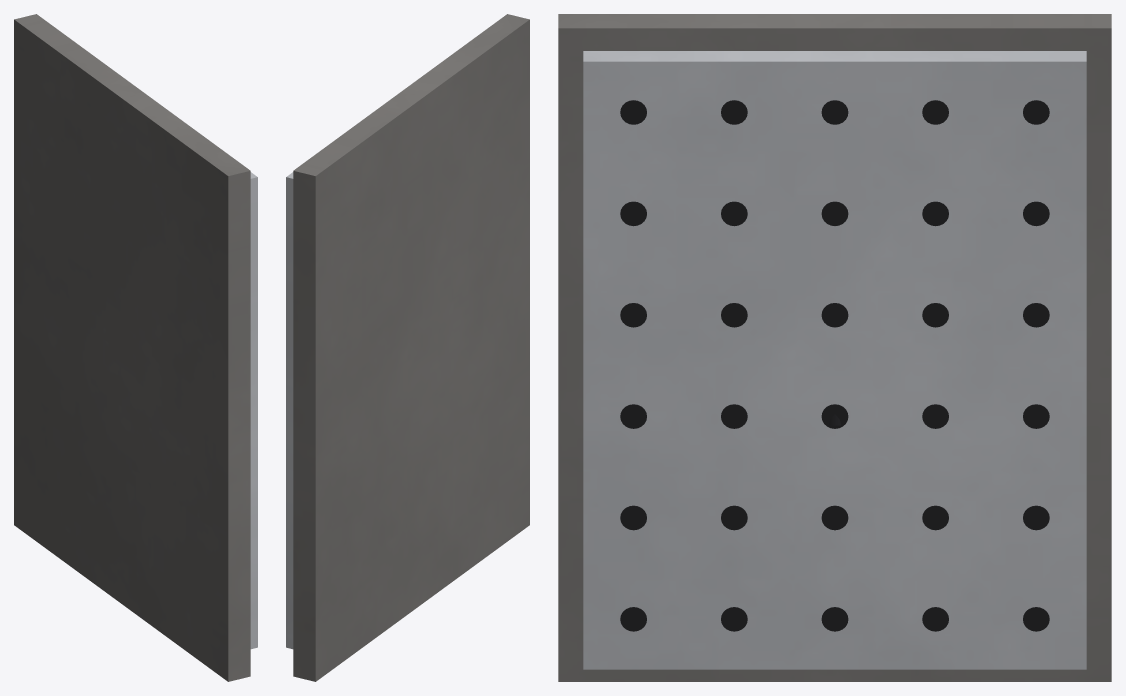
The model's file is aero07_airbrake_s.glb.
3 views of the same model, side by side, from view 1: azimuth 30°, elevation 25°; view 2: azimuth 150°, elevation 25°; view 3: azimuth 270°, elevation 25° (orthographic). The views are drawn at different scales.
Visible parts, largest first — view 1: base_frame, panel_brake; view 2: base_frame, panel_brake; view 3: panel_brake, base_frame, panel_perforations.
Boxes of the visible parts, x1,y1,x2,y2 form: base_frame: (14,14,250,681); panel_brake: (250,172,257,649); base_frame: (293,14,529,681); panel_brake: (286,172,293,649); panel_brake: (583,51,1086,669); base_frame: (558,14,1111,681); panel_perforations: (620,100,1049,631).
Size of the model in its own units: 0.0729 by 0.86 by 0.66.
3 materials, 2 textured.
